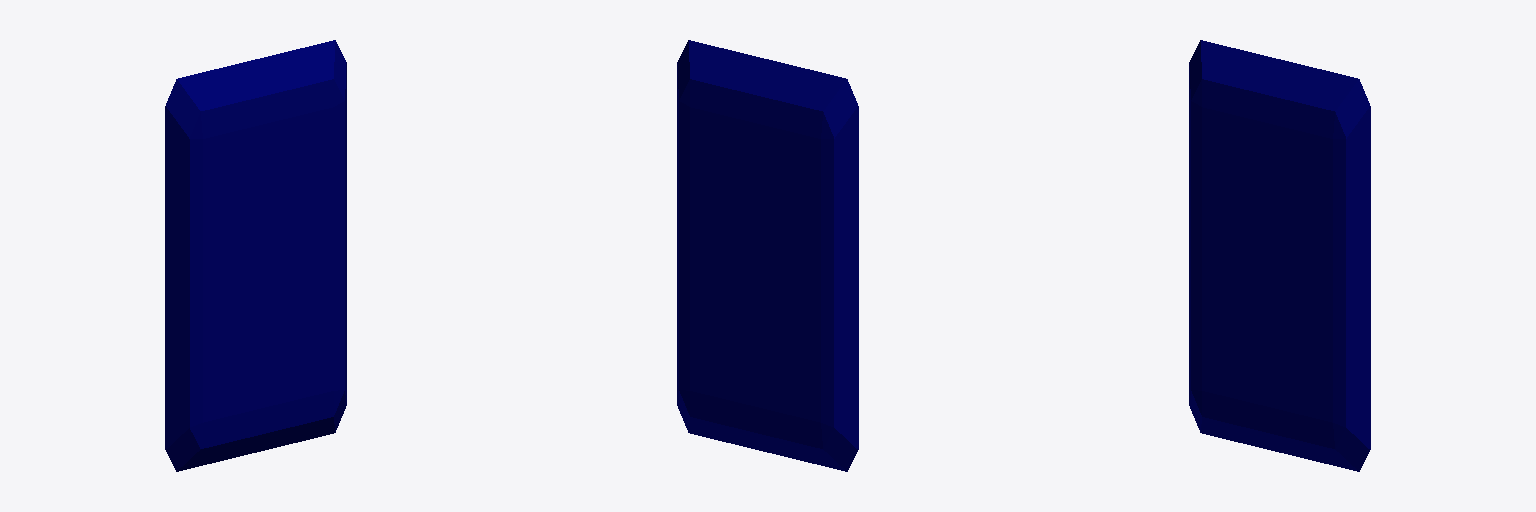
File: Jewel_04.obj
The picture shows the model from 3 angles: view 1: azimuth 30°, elevation 25°; view 2: azimuth 150°, elevation 25°; view 3: azimuth 330°, elevation 25°; orthographic projection.
Parts seen in each view (by area): view 1: Jewel_04_Cube.002; view 2: Jewel_04_Cube.002; view 3: Jewel_04_Cube.002.
Part boxes in pixels (x1,y1,x2,y2): Jewel_04_Cube.002: (165, 40, 346, 471); Jewel_04_Cube.002: (677, 40, 858, 471); Jewel_04_Cube.002: (1189, 40, 1370, 471).
Size of the model in its own units: 3.28 by 6.82 by 0.7709.